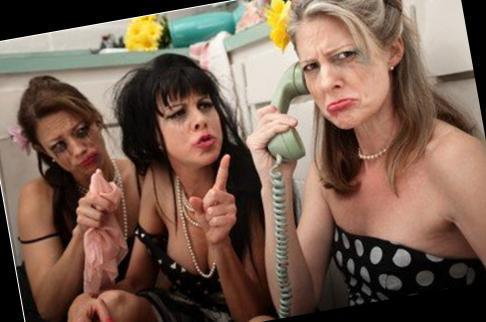Drunk: (297, 24, 386, 123), (152, 89, 223, 158), (36, 112, 105, 174)
